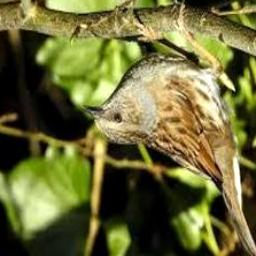Sparrow: (83, 0, 256, 256)
